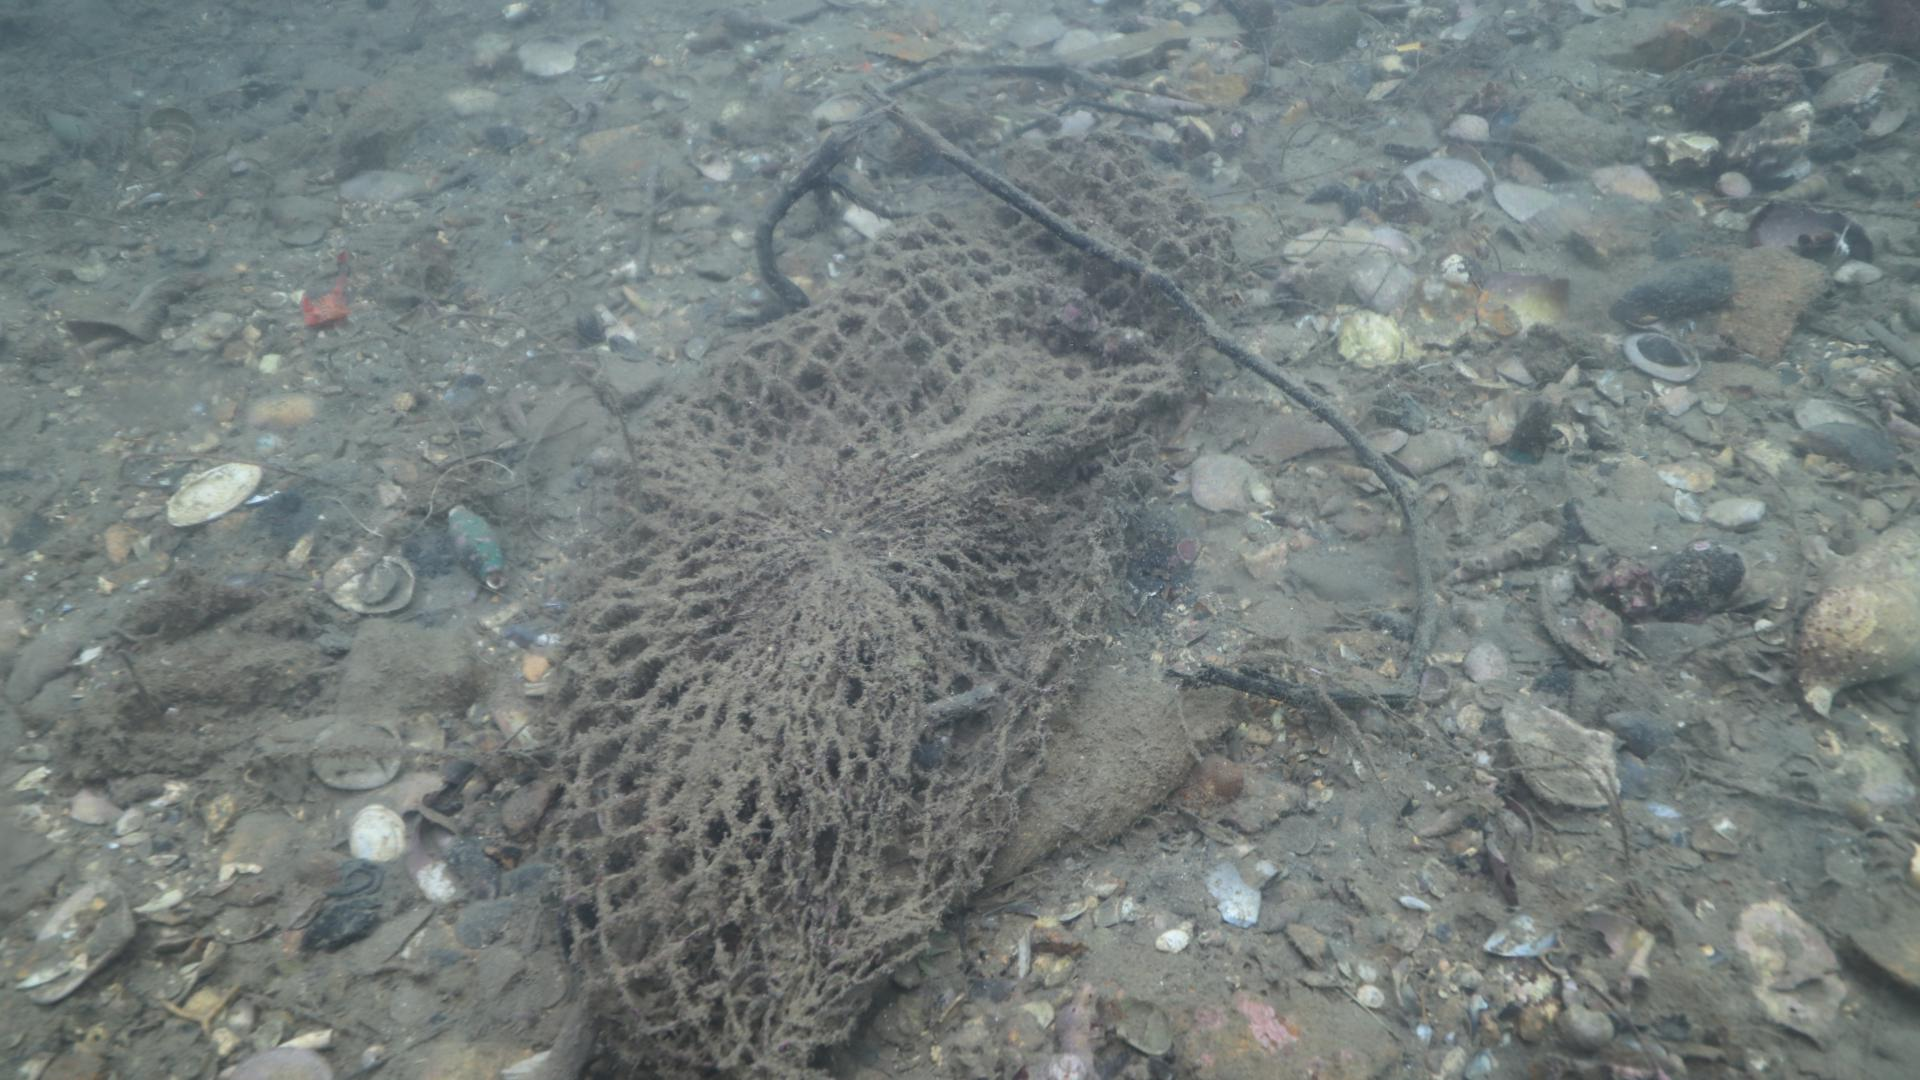fish net: (553, 127, 1236, 1080)
